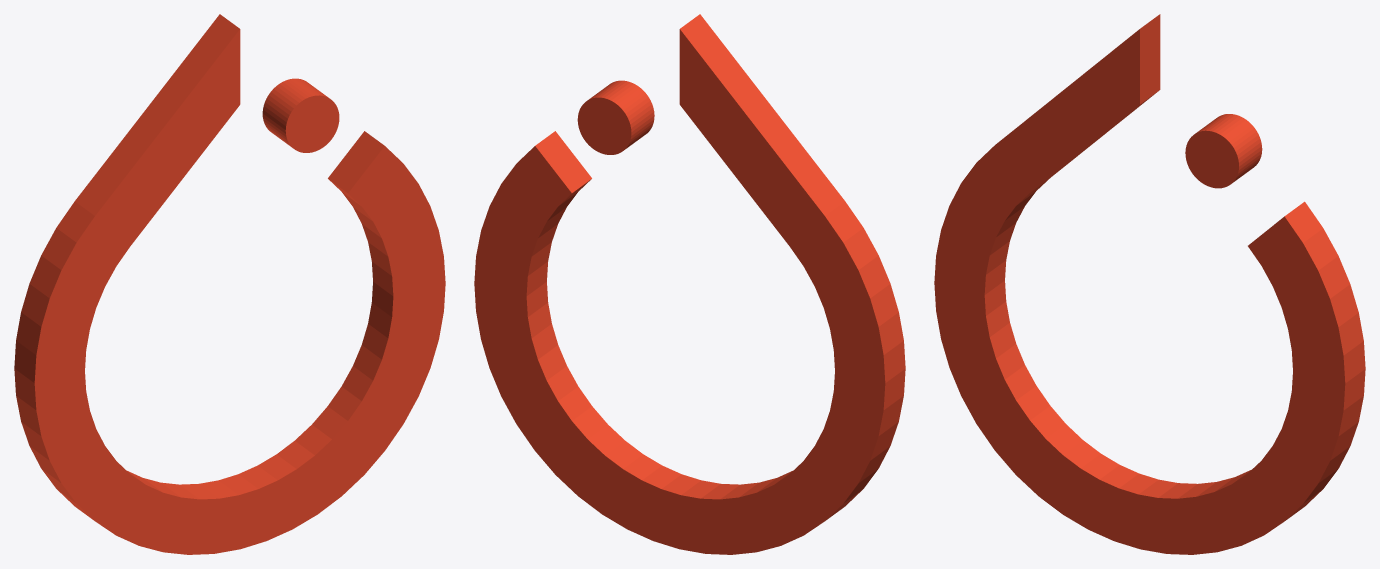
File: pytorch.glb
3 views of the same model, side by side, from view 1: azimuth 30°, elevation 25°; view 2: azimuth 150°, elevation 25°; view 3: azimuth 330°, elevation 25° (orthographic).
Visible parts, largest first — view 1: Curve, Curve.001; view 2: Curve, Curve.001; view 3: Curve, Curve.001.
Part boxes in pixels (bbox=[...]): Curve: bbox=[14, 14, 445, 554]; Curve.001: bbox=[262, 78, 339, 152]; Curve: bbox=[474, 14, 905, 554]; Curve.001: bbox=[577, 80, 654, 154]; Curve: bbox=[934, 14, 1365, 554]; Curve.001: bbox=[1185, 114, 1262, 188].
Size of the model in its own units: 1.22 by 1.47 by 0.1186.
